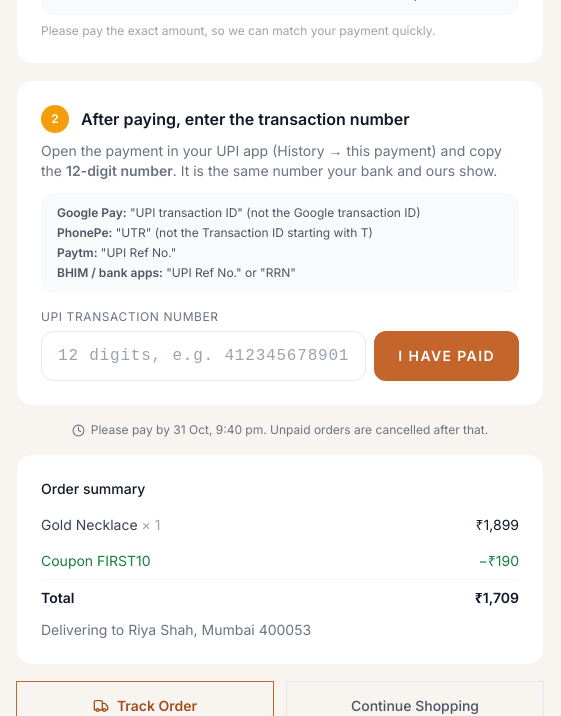
Scenario: Payment page › a 14-digit number is not silently cut to 12
This screenshot has width=561, height=716.
(page scrolled)
Type "41234567890155" into the field labelled "UPI transaction number" at x=204, y=356, box [41,331,366,381]
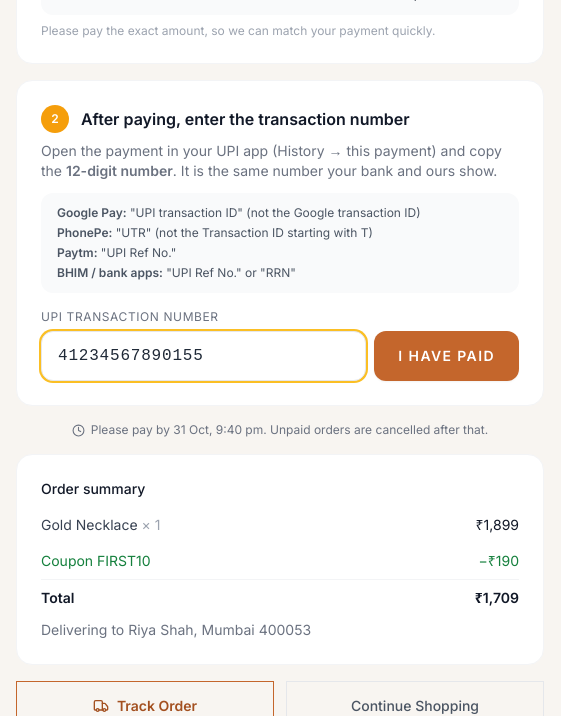
Click the button "I have paid" at x=447, y=356, box [374,331,519,381]
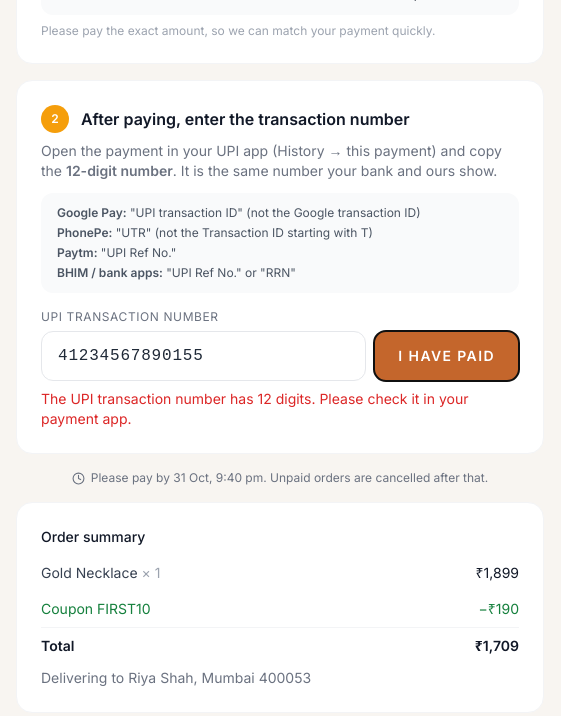
Expected: the message shows "12 digits", [41,390,468,427]
